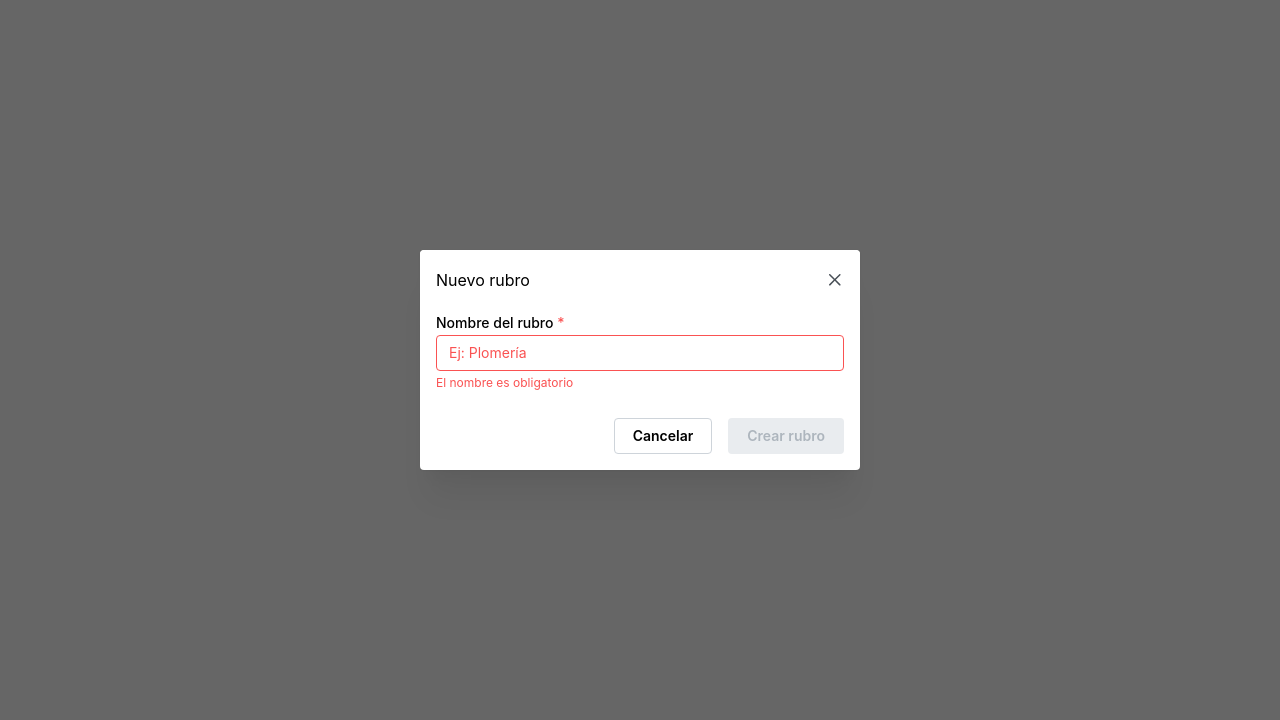
Test case: ModalServicio › muestra error si el servidor devuelve un conflicto/duplicado
The width and height of the screenshot is (1280, 720).
Type "Lavado" into the field labelled "Nombre del rubro *" at (640, 353), box [436, 335, 844, 371]
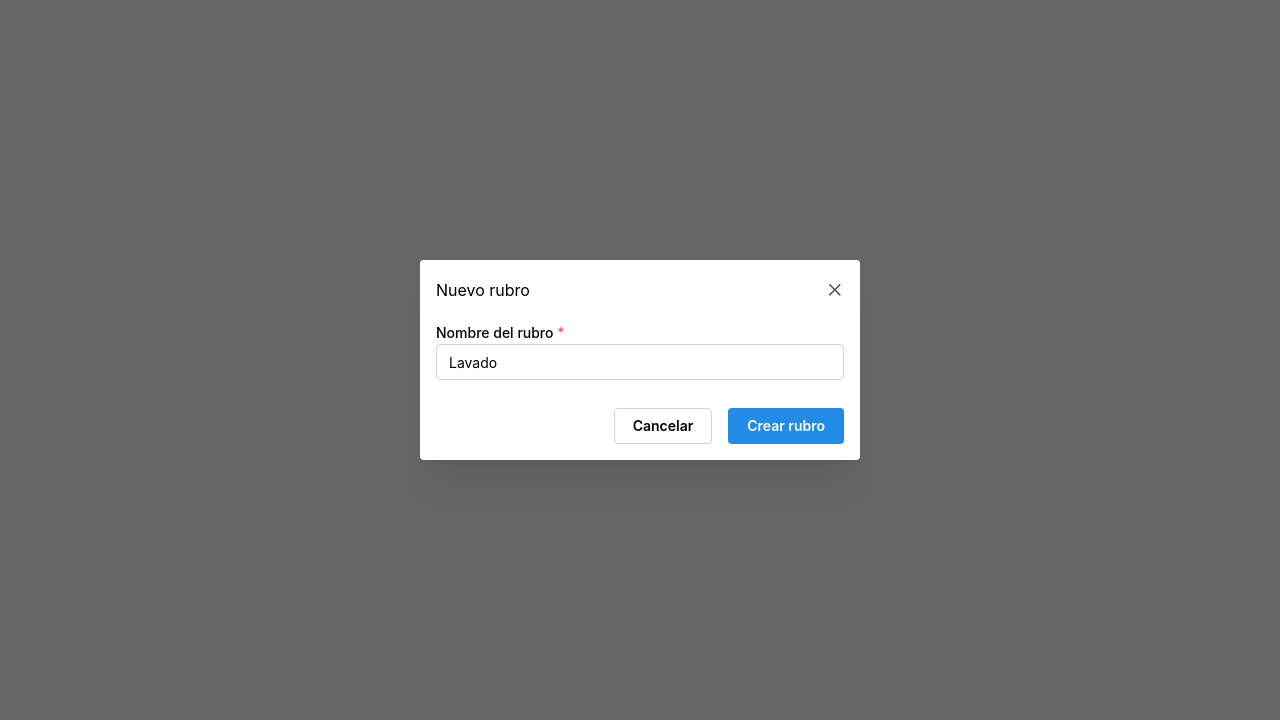
Click the button "Crear rubro" at (786, 426), box [728, 408, 844, 444]
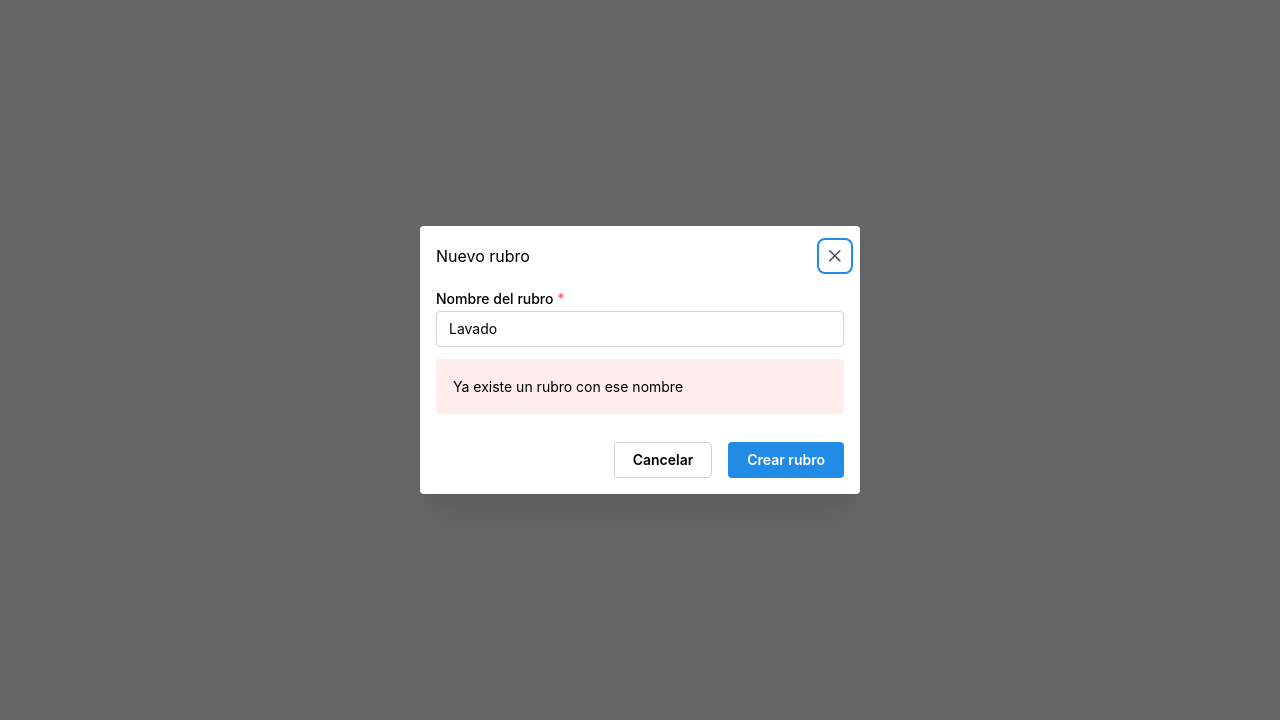
Check: the text "Ya existe un rubro con ese nombre" is shown, box [453, 378, 683, 394]
